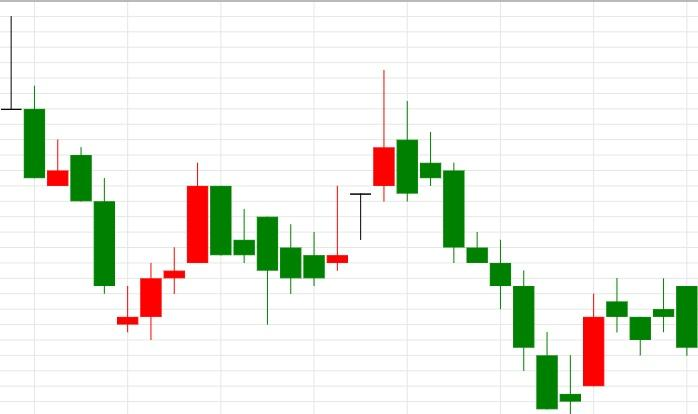morning_star_rise: (1, 16, 162, 341), (420, 132, 605, 414)
shooting_star_fall: (304, 69, 395, 286)
